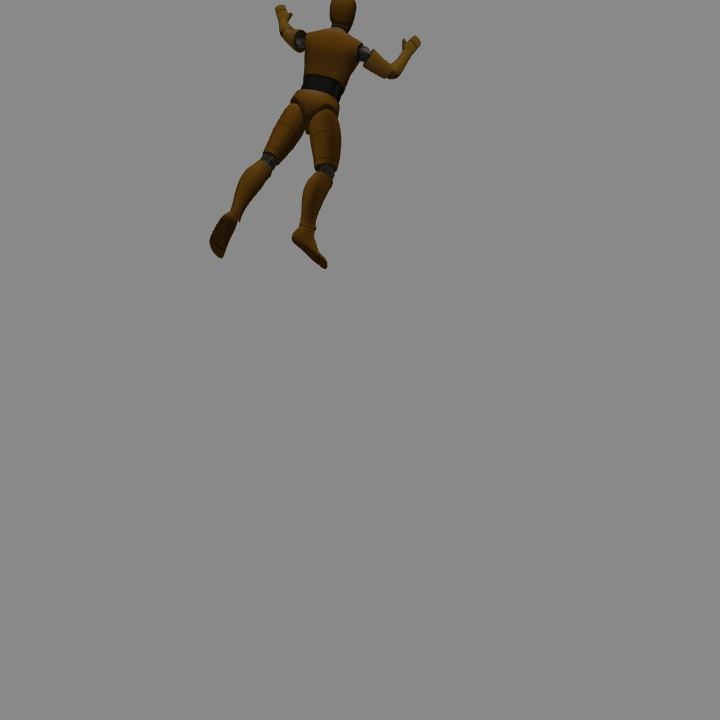victim: (220, 1, 417, 256)
